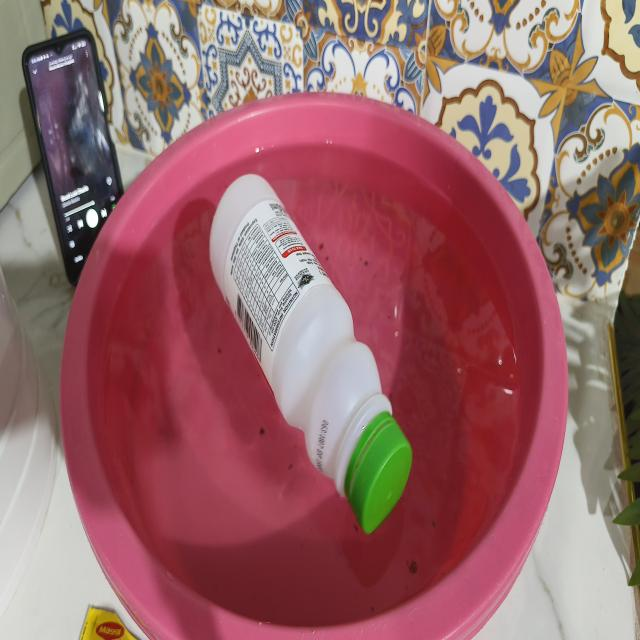Plastic Bottle: (210, 174, 412, 534)
